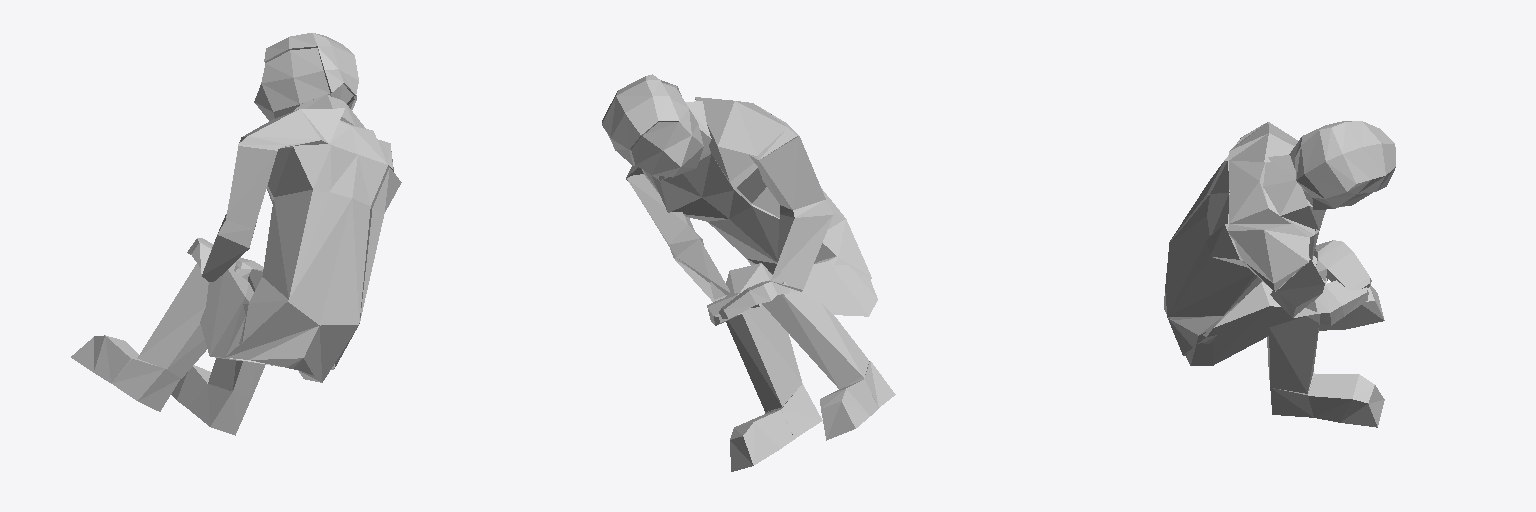
Rendered from npc01pose.obj.
3 renders of one model, left to right at view 1: azimuth 30°, elevation 25°; view 2: azimuth 150°, elevation 25°; view 3: azimuth 270°, elevation 25°, orthographic.
Visible parts, largest first — view 1: Cube.001_Cube.003; view 2: Cube.001_Cube.003; view 3: Cube.001_Cube.003.
Part boxes in pixels (x1,y1,x2,y2): Cube.001_Cube.003: (71, 33, 401, 435); Cube.001_Cube.003: (602, 74, 895, 471); Cube.001_Cube.003: (1164, 121, 1395, 427).
Bounding box in the file's own units: 0.7969 × 0.9891 × 0.5878.